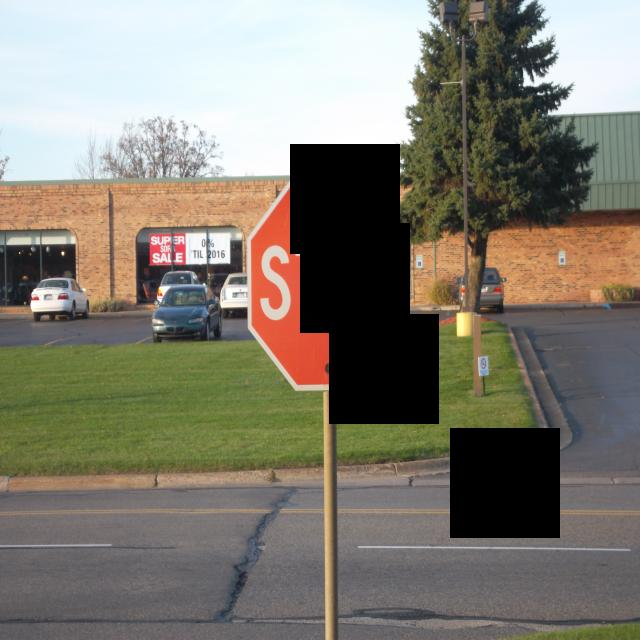stop: (237, 174, 425, 397)
